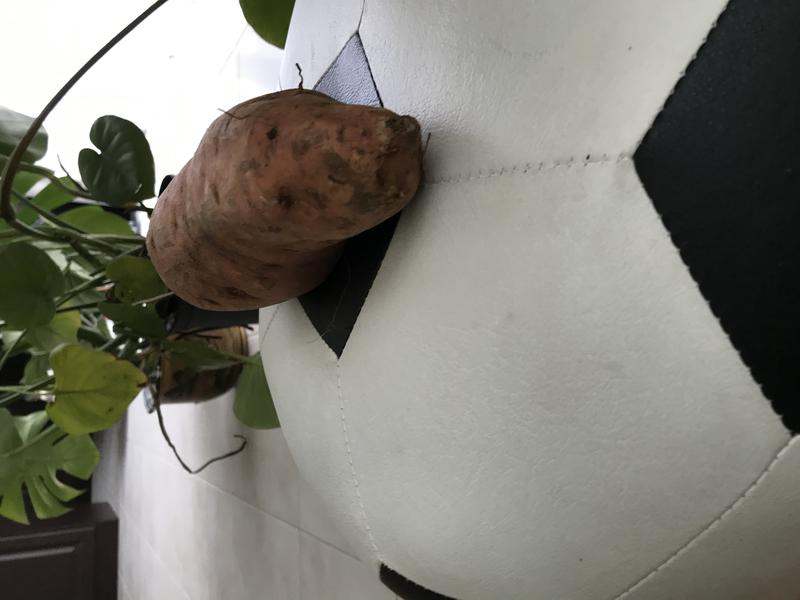sweet_potato: (134, 77, 438, 327)
